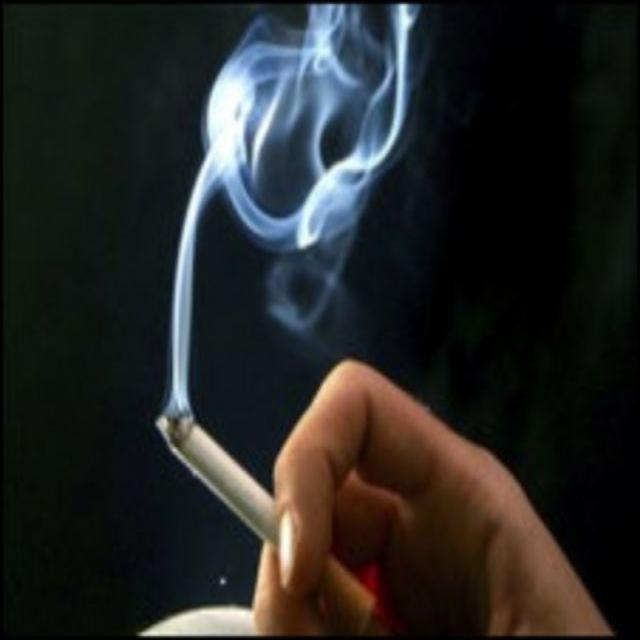rokok: (152, 403, 374, 633)
